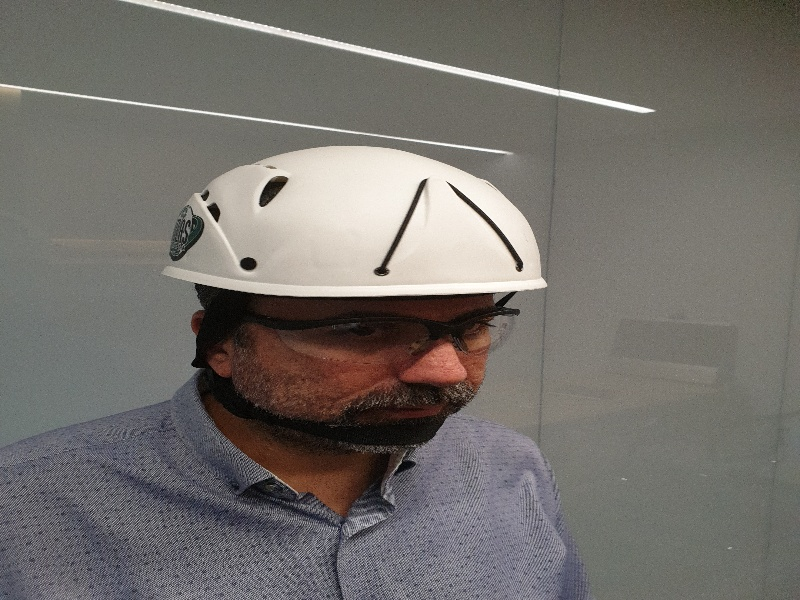Baret: (165, 146, 549, 294)
Gozluk: (214, 303, 522, 360)
